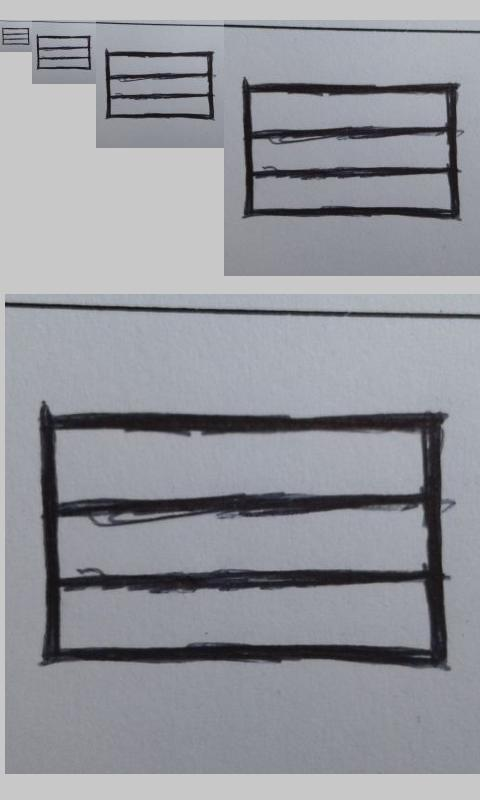list_view: (40, 409, 446, 669), (241, 84, 462, 219), (104, 48, 215, 122), (36, 36, 91, 70), (2, 27, 30, 45)
